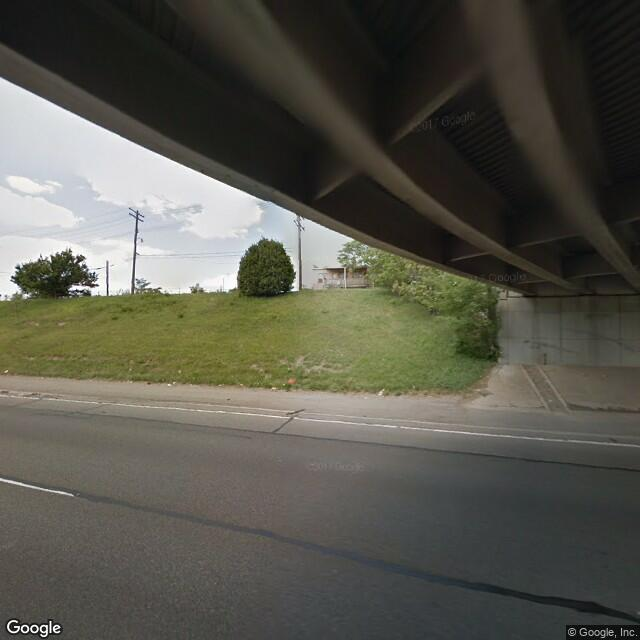litter: (270, 376, 298, 391), (217, 378, 248, 391), (3, 364, 16, 378), (165, 377, 180, 388), (373, 387, 390, 396)
